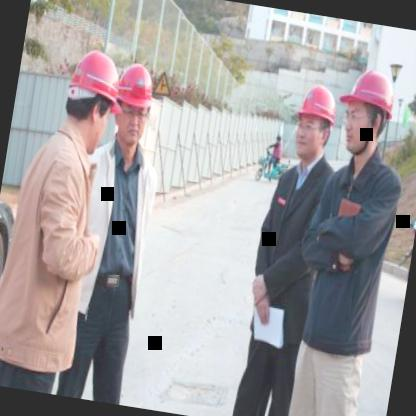helmet: (60, 41, 124, 145), (335, 61, 400, 162), (287, 76, 343, 166), (108, 56, 158, 146)
